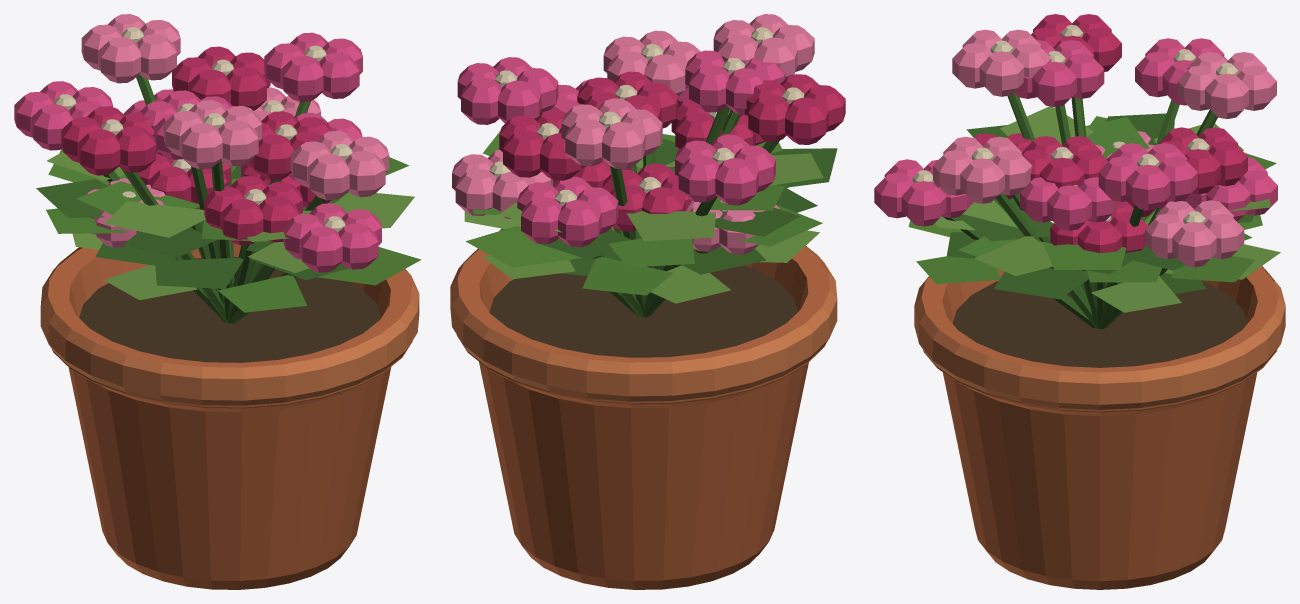
The model's file is geranium_flower_pot.glb.
3 views of the same model, side by side, from view 1: azimuth 30°, elevation 25°; view 2: azimuth 150°, elevation 25°; view 3: azimuth 270°, elevation 25° (orthographic). The views are drawn at different scales.
Visible parts, largest first — view 1: geranium_flower_pot; view 2: geranium_flower_pot; view 3: geranium_flower_pot.
Boxes of the visible parts, bbox=[...] form: geranium_flower_pot: bbox=[14, 14, 420, 589]; geranium_flower_pot: bbox=[450, 14, 845, 589]; geranium_flower_pot: bbox=[874, 14, 1285, 589].
Size of the model in its own units: 0.8224 by 1.11 by 0.8866.
